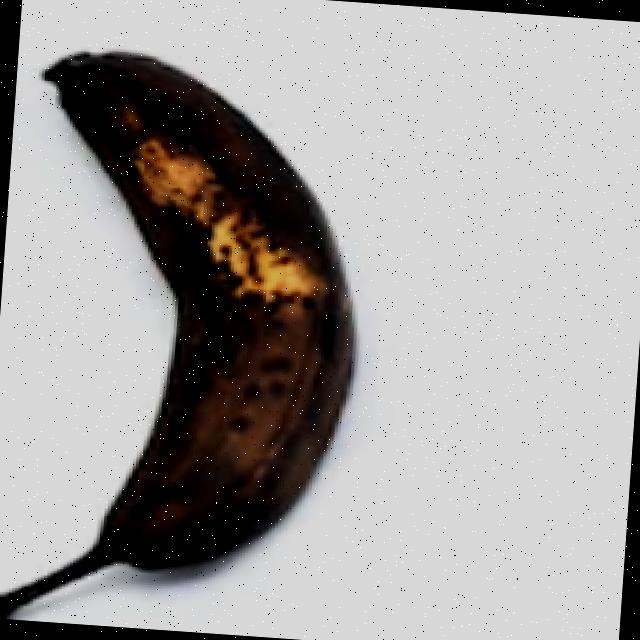rotten banana: (0, 5, 557, 640)
